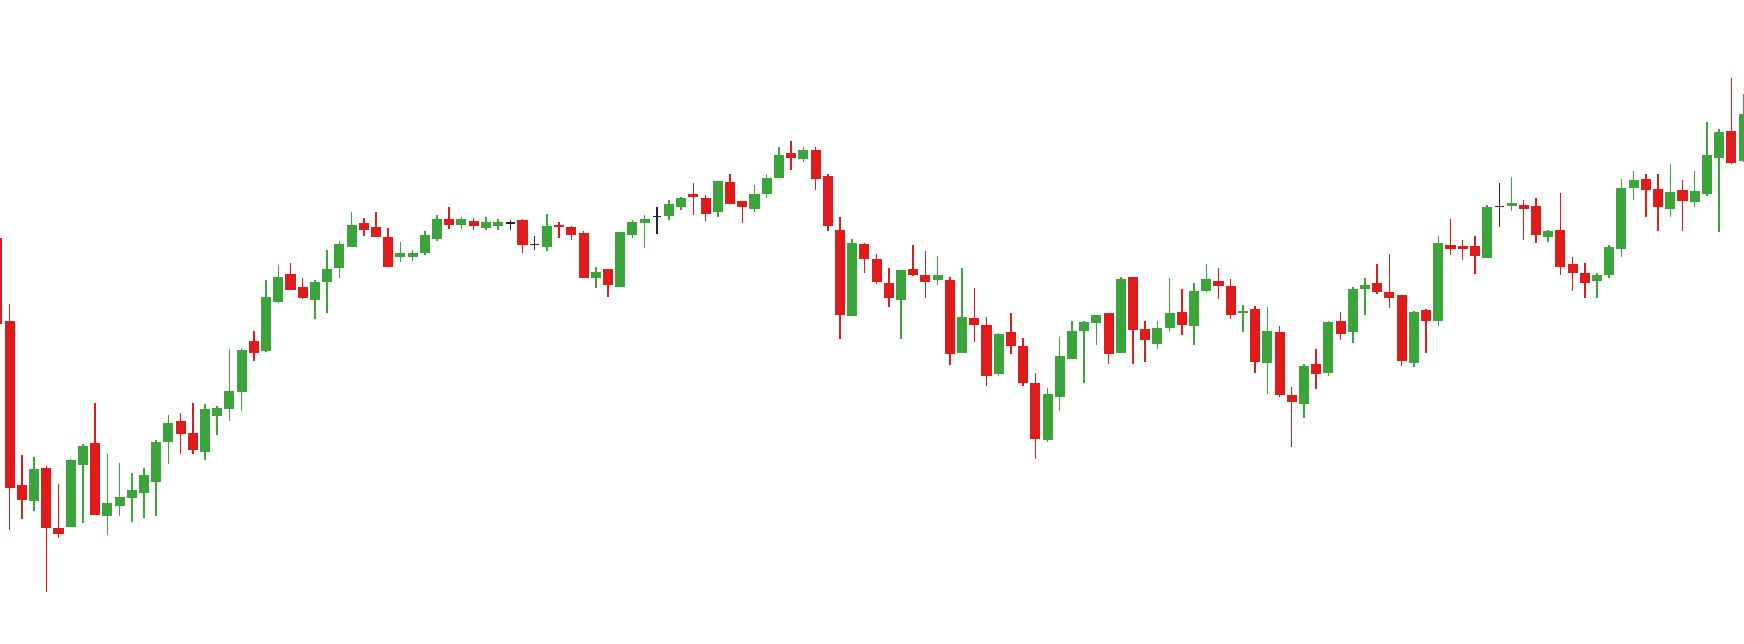buy: (1470, 205, 1617, 298), (1332, 280, 1423, 380)
sell: (724, 142, 821, 197)
